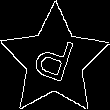P_S: (30, 31, 80, 90)
